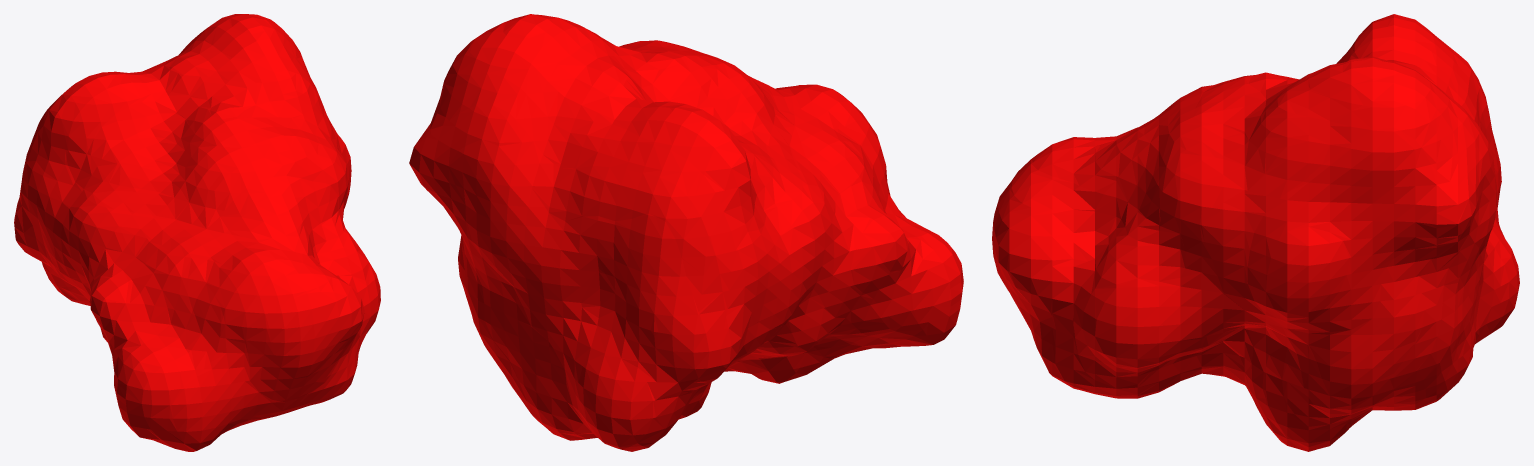
File: fbp_coarse.dae
The picture shows the model from 3 angles, left to right: view 1: azimuth 30°, elevation 25°; view 2: azimuth 150°, elevation 25°; view 3: azimuth 270°, elevation 25°; orthographic projection. The views are drawn at different scales.
Visible parts, largest first — view 1: fbp; view 2: fbp; view 3: fbp.
Boxes of the visible parts, x1=… form: fbp: x1=14, y1=14, x2=380, y2=451; fbp: x1=409, y1=14, x2=963, y2=451; fbp: x1=992, y1=14, x2=1519, y2=451.
Size of the model in its own units: 49.36 by 51.33 by 59.96.
